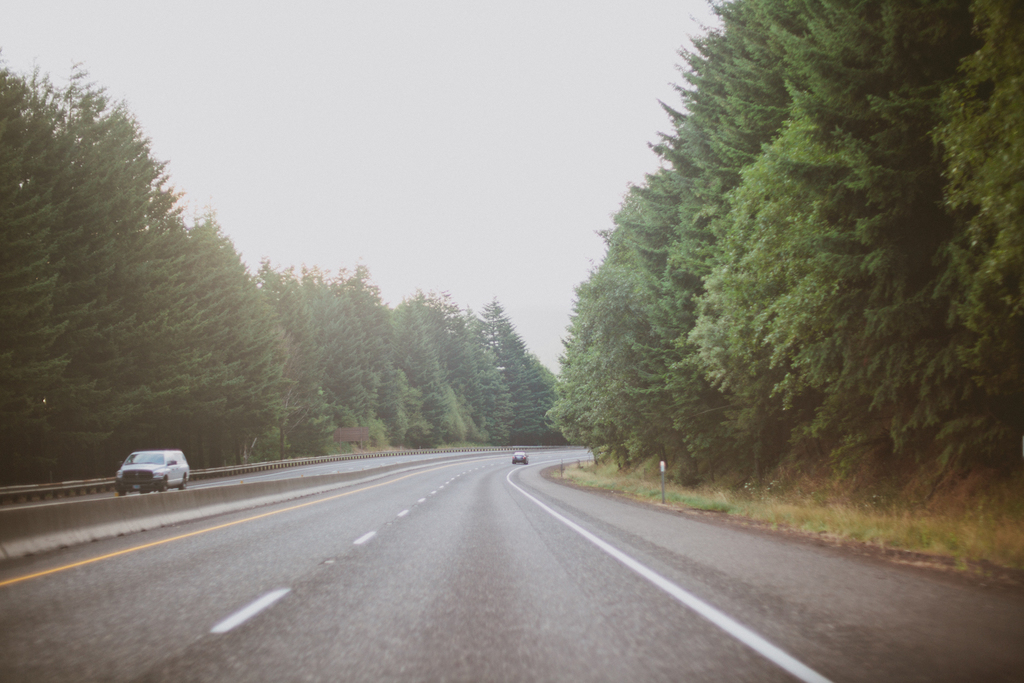Tree: (0, 0, 1023, 512), (689, 0, 901, 432), (630, 0, 764, 460), (55, 51, 202, 470), (122, 140, 278, 453), (0, 53, 115, 473), (161, 196, 301, 484), (600, 162, 688, 450), (281, 262, 374, 469), (238, 244, 326, 458), (564, 233, 639, 461), (335, 256, 412, 460), (268, 260, 341, 463), (391, 284, 456, 460), (529, 281, 591, 452), (440, 284, 486, 452), (459, 303, 512, 443), (479, 295, 529, 443), (529, 349, 564, 442)
